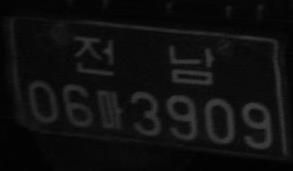0: (203, 96, 237, 146), (27, 78, 59, 124)
3: (130, 89, 162, 138)
6: (62, 82, 95, 127)
9: (240, 100, 274, 151), (164, 93, 198, 143)
마: (95, 88, 124, 131)
전남_D: (71, 33, 216, 86)
